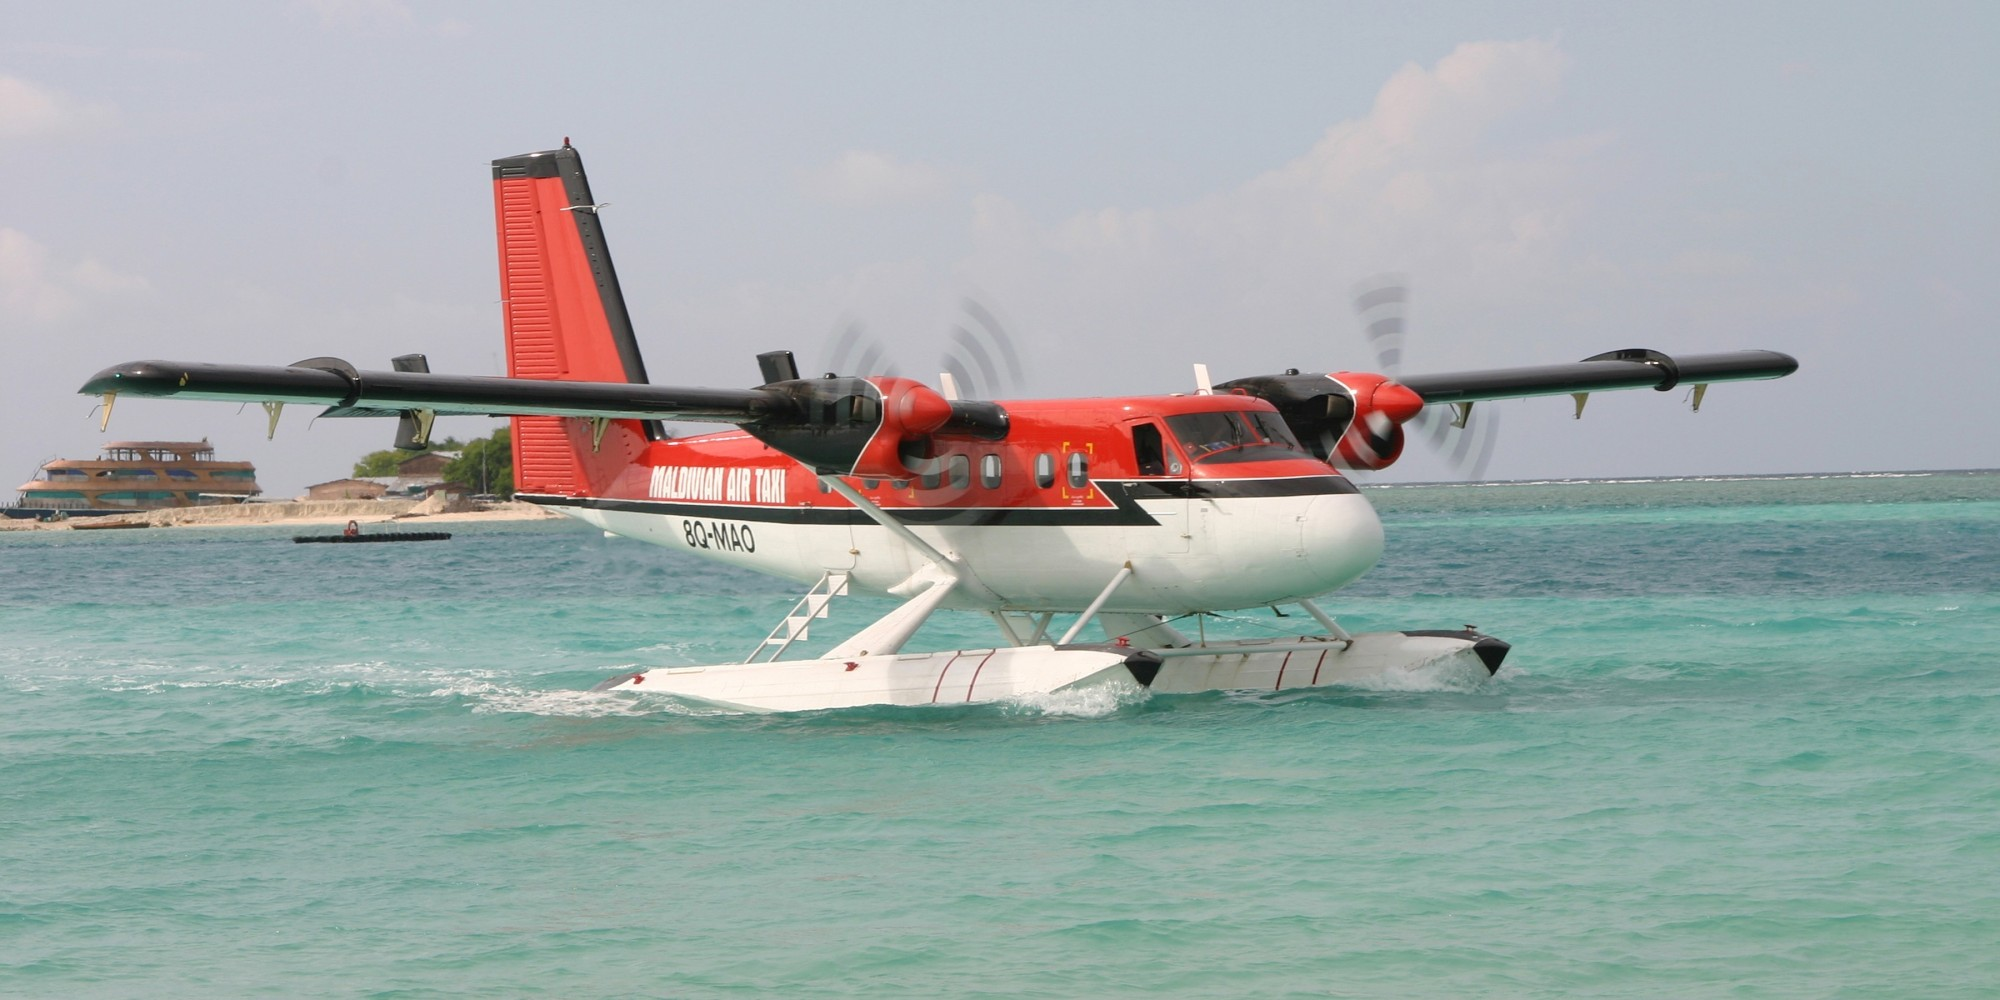Aeronef_commercial: (66, 116, 1835, 735)
